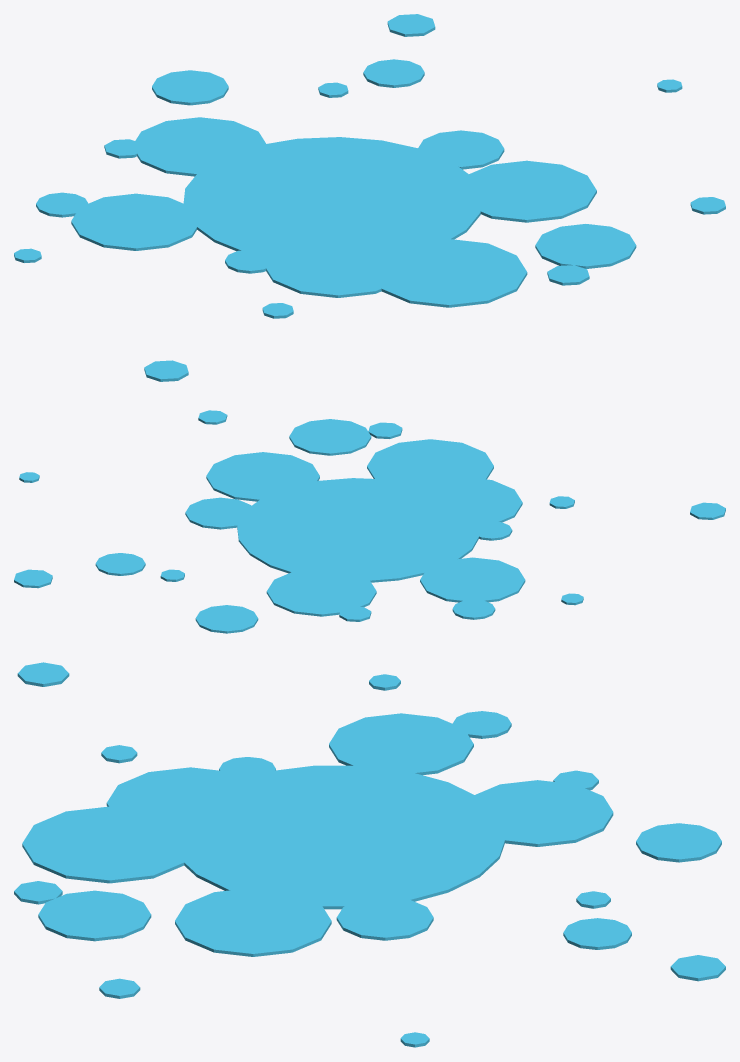
File: paint-splat-cyan.glb
The picture shows the model from 3 angles, top to bottom: view 1: azimuth 30°, elevation 25°; view 2: azimuth 150°, elevation 25°; view 3: azimuth 270°, elevation 25°; orthographic projection. The views are drawn at different scales.
Parts seen in each view (by area): view 1: paint-splat-cyan; view 2: paint-splat-cyan; view 3: paint-splat-cyan.
Part boxes in pixels (x1,y1,x2,y2): paint-splat-cyan: (14, 14, 725, 381); paint-splat-cyan: (14, 410, 725, 633); paint-splat-cyan: (14, 662, 725, 1047).
Bounding box in the file's own units: 8.07 × 0.03 × 6.36.
